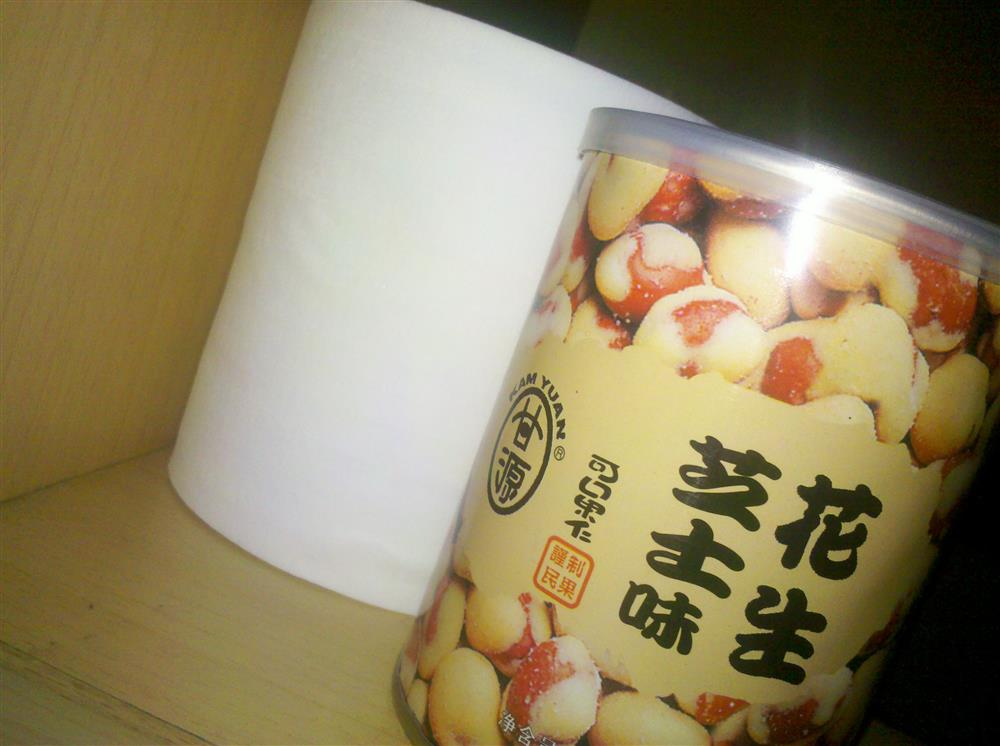Cheese_Peanuts: (374, 110, 985, 734)
